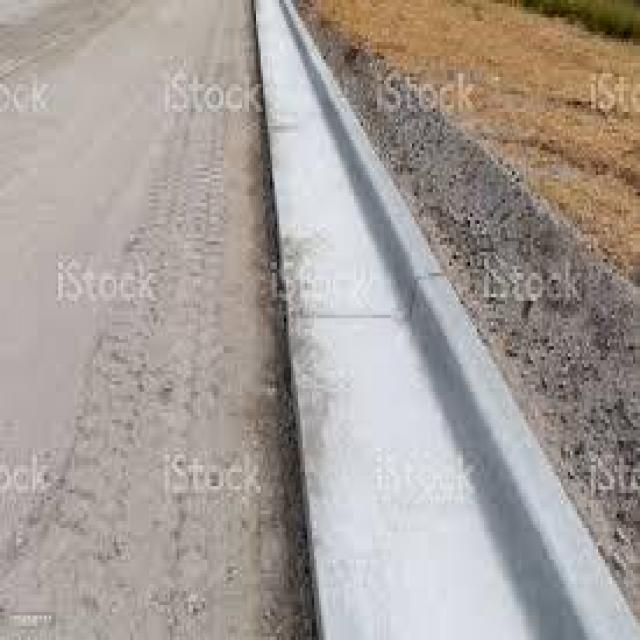curb: (274, 268, 523, 491), (302, 480, 640, 640), (258, 14, 402, 274)
